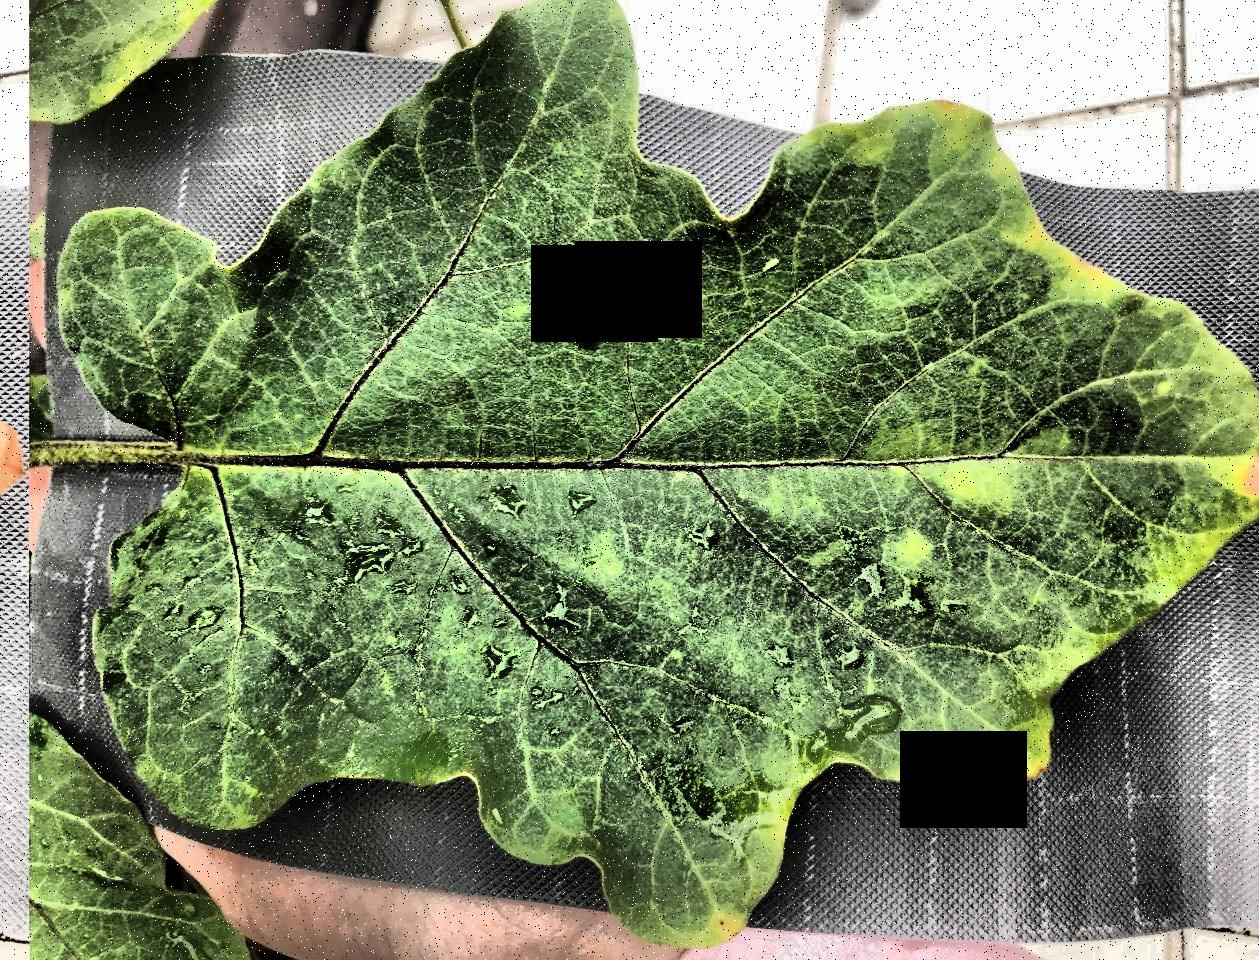Non-critical Stress: (1, 0, 1259, 960)
